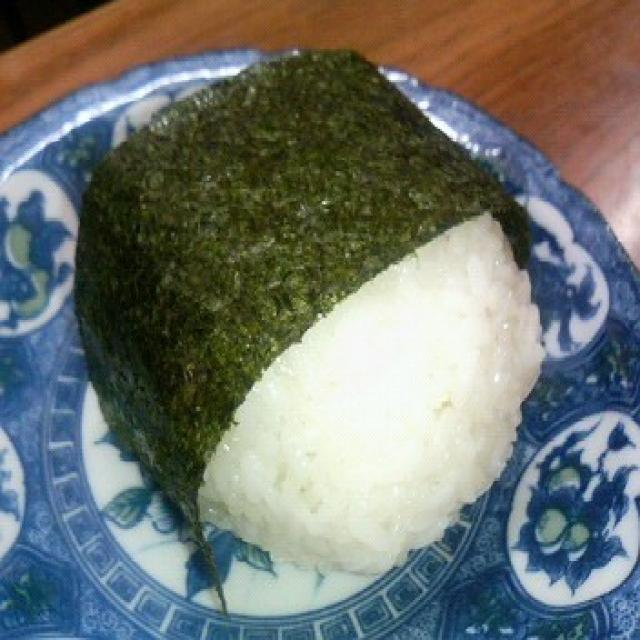米饭主食: (0, 49, 640, 635)
